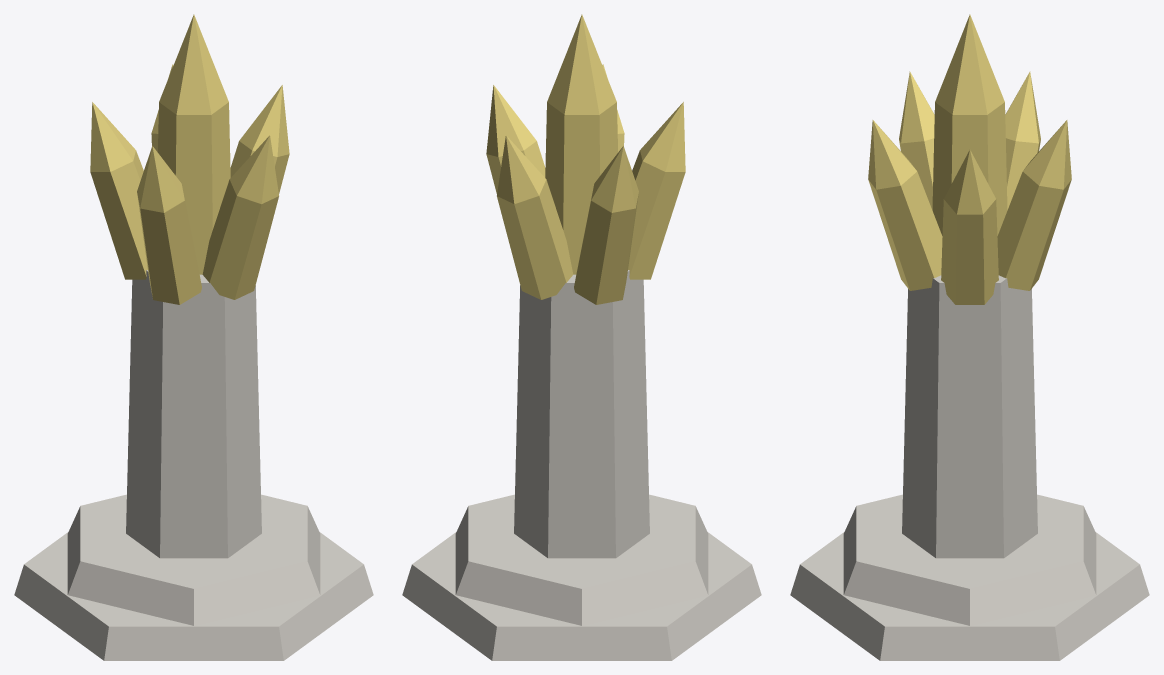
The model's file is Islandia_Dama.fbx.
3 renders of one model, left to right at view 1: azimuth 30°, elevation 25°; view 2: azimuth 150°, elevation 25°; view 3: azimuth 270°, elevation 25°, orthographic.
Parts seen in each view (by area): view 1: Islandia_Dama; view 2: Islandia_Dama; view 3: Islandia_Dama.
Part boxes in pixels (box(x1,y1,x2,y2)): Islandia_Dama: box(14, 14, 373, 660); Islandia_Dama: box(402, 14, 761, 660); Islandia_Dama: box(790, 14, 1149, 660).
Bounding box in the file's own units: 0.6409 × 1.32 × 0.74.
